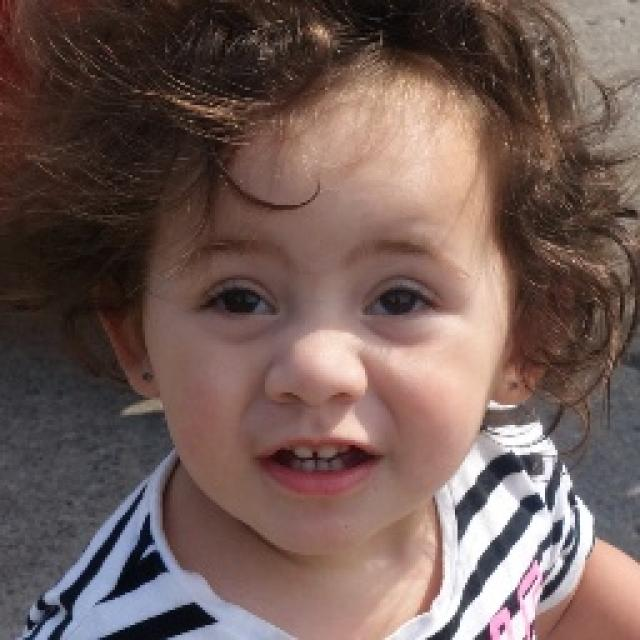earlobe: (430, 150, 520, 289), (93, 272, 161, 399)
